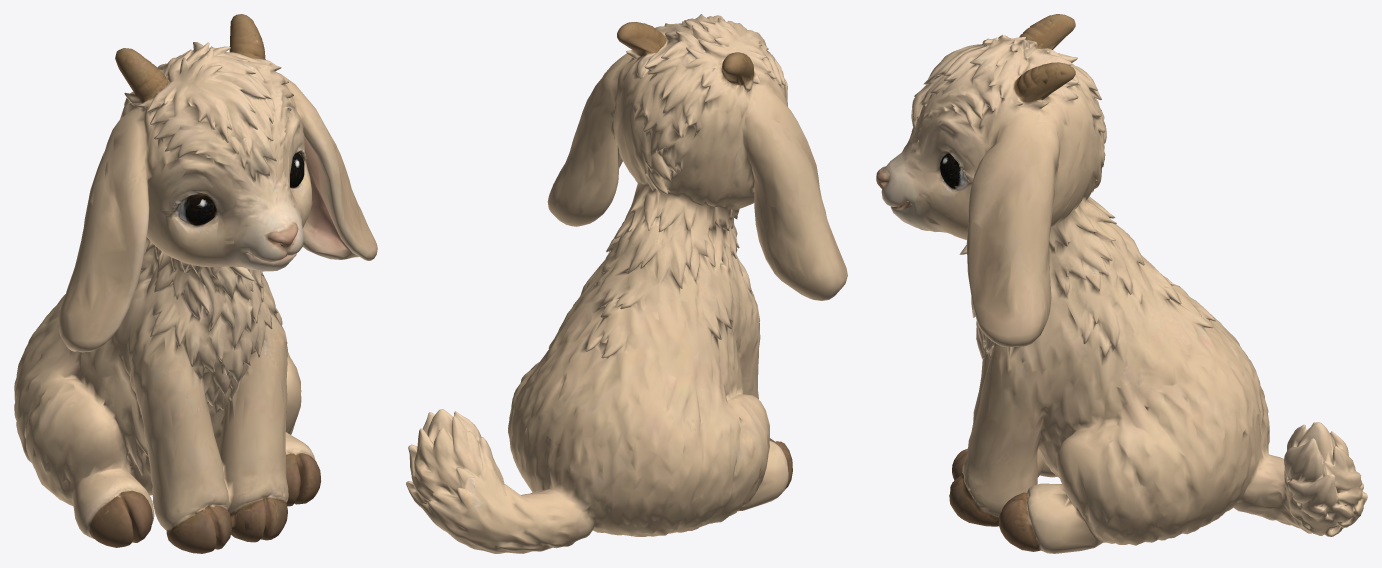
3 views of the same model, side by side, from view 1: azimuth 30°, elevation 25°; view 2: azimuth 150°, elevation 25°; view 3: azimuth 270°, elevation 25° (orthographic). The views are drawn at different scales.
Bounding box in the file's own units: 1.29 × 1.9 × 1.82.
Materials: 1 (1 with a texture image).
